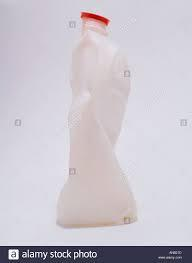Milk bottle: (53, 8, 144, 233)
